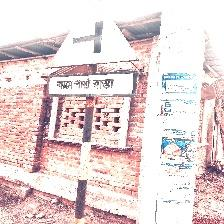Side-road-left: (42, 0, 140, 102)
